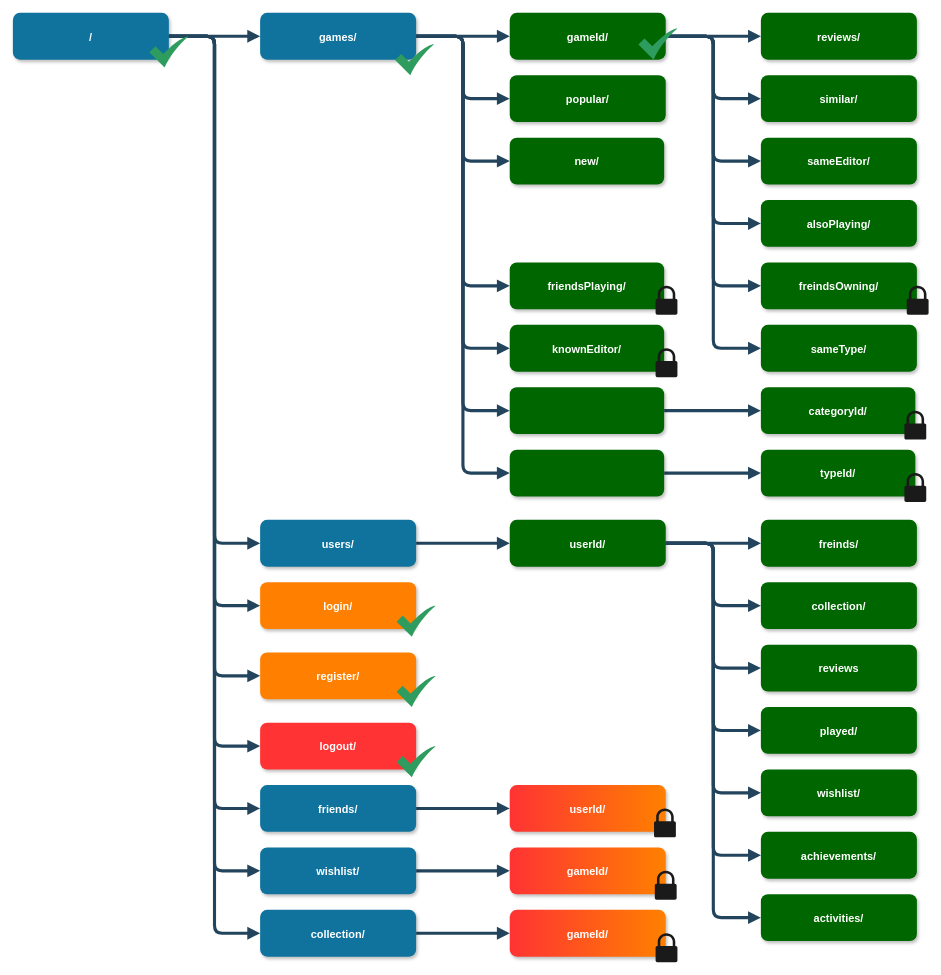
This 941x975 diagram has some shape labels left out. Here are the shapes that lost their labels. From the top down, the centre of each, then its label:
the point at 587,411: categories/
the point at 587,474: types/
